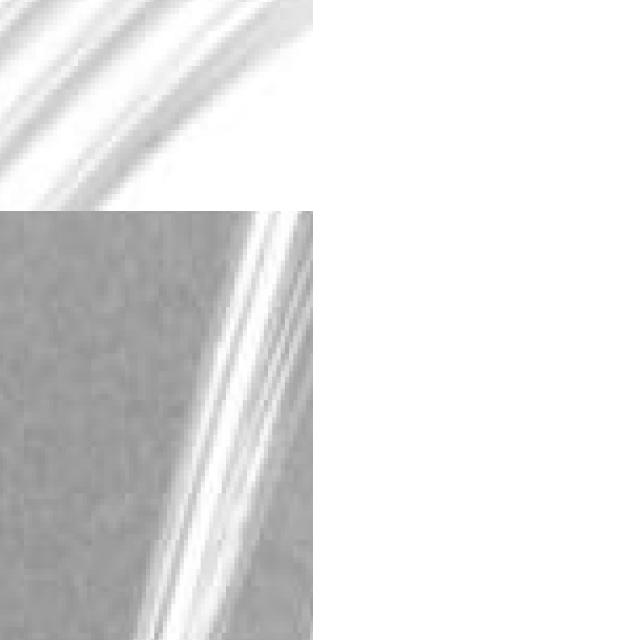forks: (0, 211, 313, 640), (0, 0, 313, 211)
